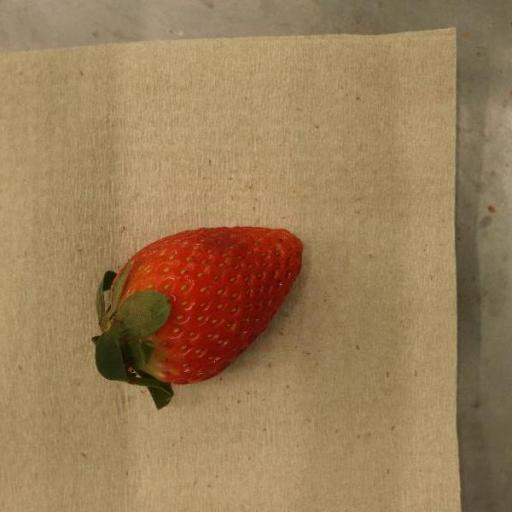Strawberry: (90, 227, 303, 411)
